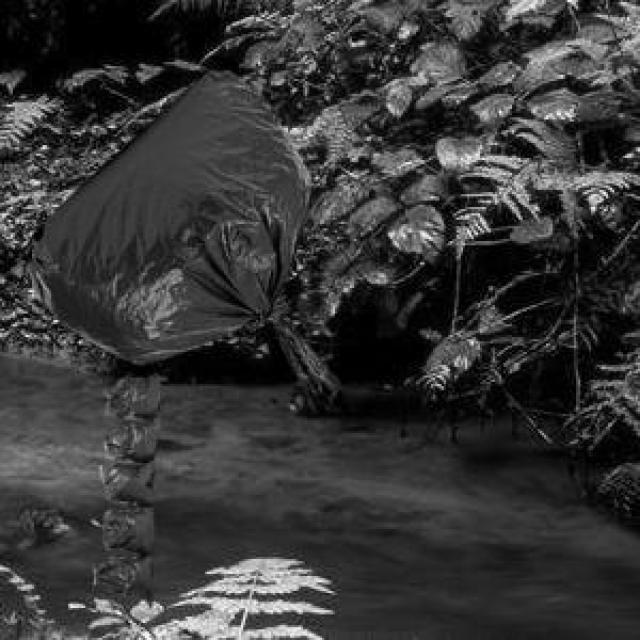miscellaneous trash: (17, 66, 335, 405), (92, 371, 156, 604)
